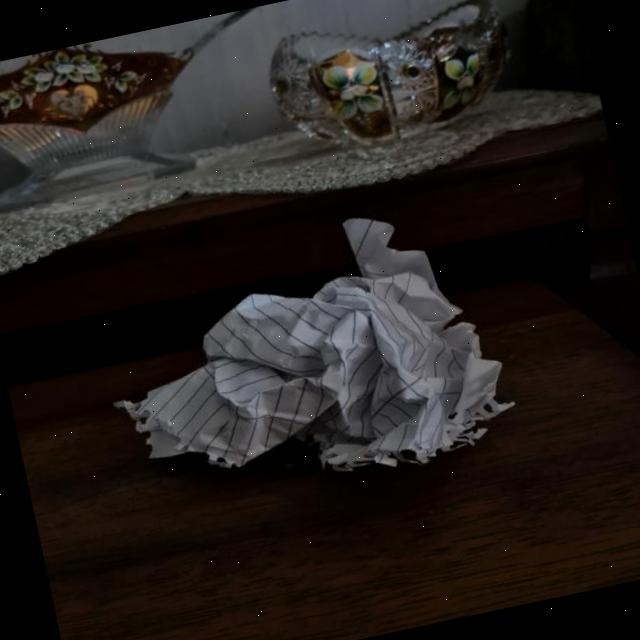trash: (102, 211, 527, 521)
